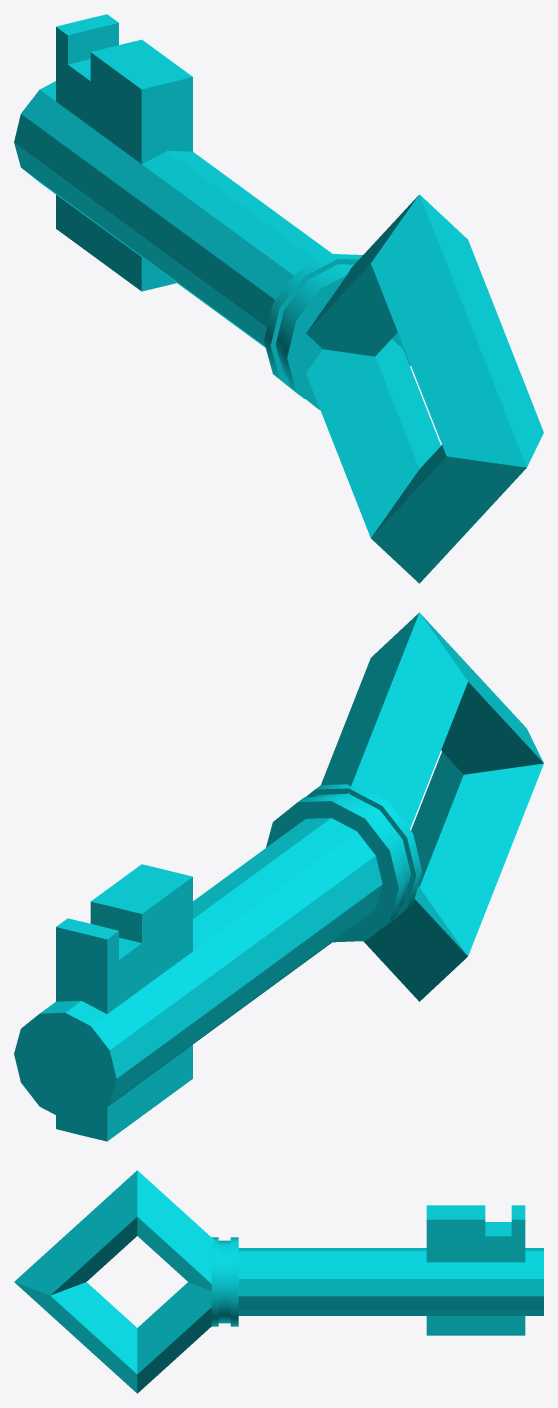
File: LLave_2.fbx
3 views of the same model, one above another, from view 1: azimuth 30°, elevation 25°; view 2: azimuth 150°, elevation 25°; view 3: azimuth 270°, elevation 25° (orthographic). The views are drawn at different scales.
Parts seen in each view (by area): view 1: Deco_2, Llave_2, Junta_2; view 2: Llave_2, Deco_2, Junta_2; view 3: Llave_2, Deco_2, Junta_2.
Boxes of the visible parts, bbox=[...] form: Deco_2: bbox=[306, 194, 543, 583]; Llave_2: bbox=[14, 14, 332, 347]; Junta_2: bbox=[264, 254, 410, 410]; Llave_2: bbox=[14, 818, 382, 1141]; Deco_2: bbox=[321, 612, 543, 1001]; Junta_2: bbox=[266, 784, 421, 942]; Llave_2: bbox=[238, 1205, 543, 1335]; Deco_2: bbox=[14, 1170, 218, 1393]; Junta_2: bbox=[211, 1237, 238, 1326].
Size of the model in its own units: 67.9 by 187 by 402.
